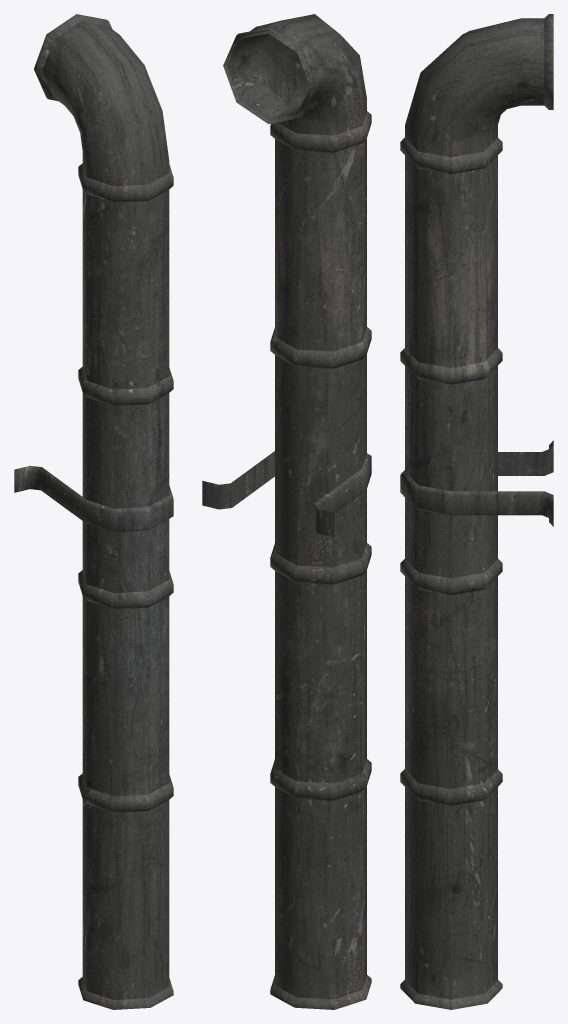
The model's file is SM_Corridor_Pipe_Set_Gray_B_long.fbx.
The picture shows the model from 3 angles, left to right: view 1: azimuth 30°, elevation 25°; view 2: azimuth 150°, elevation 25°; view 3: azimuth 270°, elevation 25°; orthographic projection. The views are drawn at different scales.
Visible parts, largest first — view 1: SM_Corridor_Pipe_Set_Gray_B_long; view 2: SM_Corridor_Pipe_Set_Gray_B_long; view 3: SM_Corridor_Pipe_Set_Gray_B_long.
Part boxes in pixels (x1=…): SM_Corridor_Pipe_Set_Gray_B_long: x1=14, y1=14, x2=173, y2=1009; SM_Corridor_Pipe_Set_Gray_B_long: x1=202, y1=14, x2=371, y2=1009; SM_Corridor_Pipe_Set_Gray_B_long: x1=400, y1=14, x2=553, y2=1009.
Size of the model in its own units: 32 by 231 by 33.
